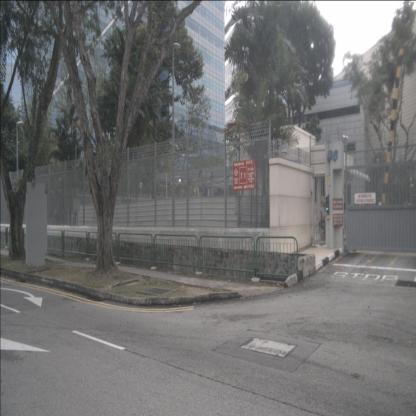human-pedestrian-adult: (319, 200, 329, 234)
